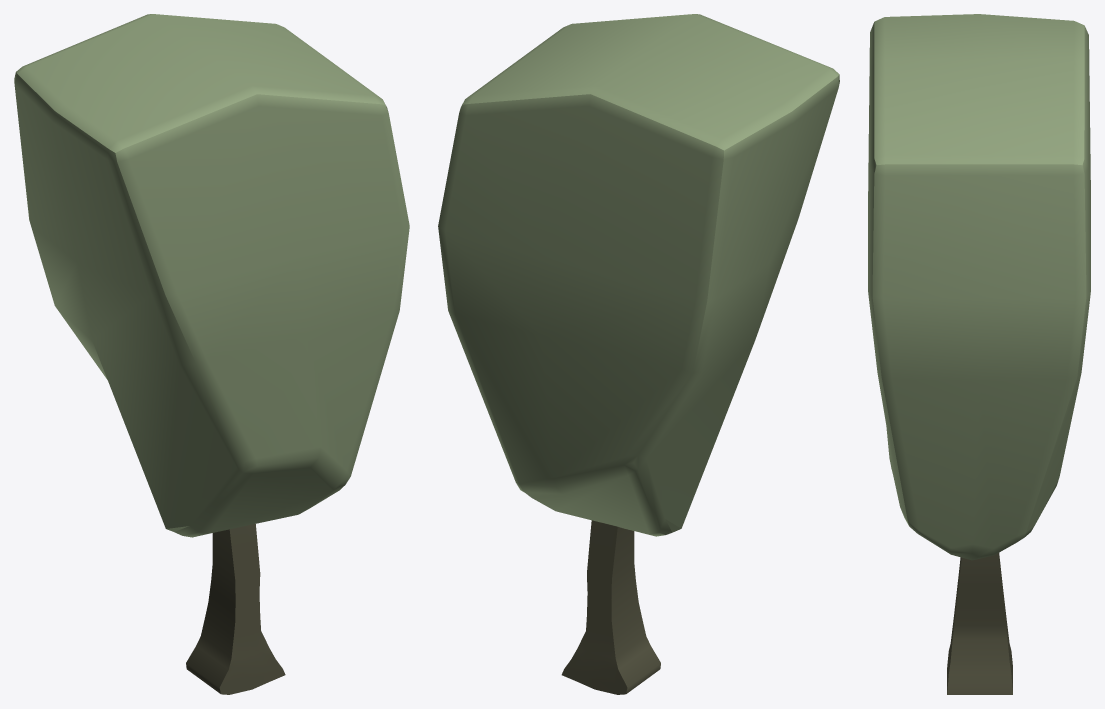
The model's file is Tree1Dark.fbx.
The picture shows the model from 3 angles, left to right: view 1: azimuth 30°, elevation 25°; view 2: azimuth 150°, elevation 25°; view 3: azimuth 270°, elevation 25°; orthographic projection. The views are drawn at different scales.
Parts seen in each view (by area): view 1: ForEdit6:pasted__pCube4, ForEdit6:pasted__pCube1; view 2: ForEdit6:pasted__pCube4, ForEdit6:pasted__pCube1; view 3: ForEdit6:pasted__pCube4, ForEdit6:pasted__pCube1.
Part boxes in pixels (<box>): ForEdit6:pasted__pCube4: <box>14,14,409,537</box>; ForEdit6:pasted__pCube1: <box>186,524,285,694</box>; ForEdit6:pasted__pCube4: <box>438,14,839,536</box>; ForEdit6:pasted__pCube1: <box>561,520,660,694</box>; ForEdit6:pasted__pCube4: <box>868,14,1090,560</box>; ForEdit6:pasted__pCube1: <box>947,553,1012,694</box>.
Bounding box in the file's own units: 2.19 × 4.36 × 1.44.
